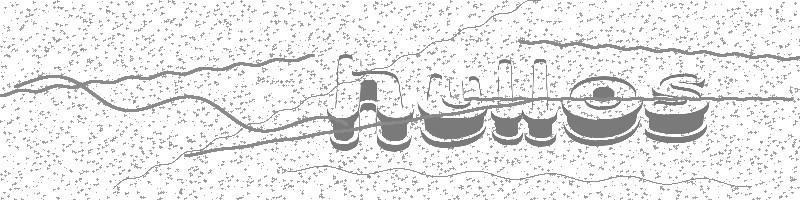h: (328, 54, 412, 151)
l: (523, 60, 557, 147), (492, 61, 523, 146)
o: (564, 77, 643, 145)
s: (645, 74, 709, 144)
u: (418, 73, 487, 148)
